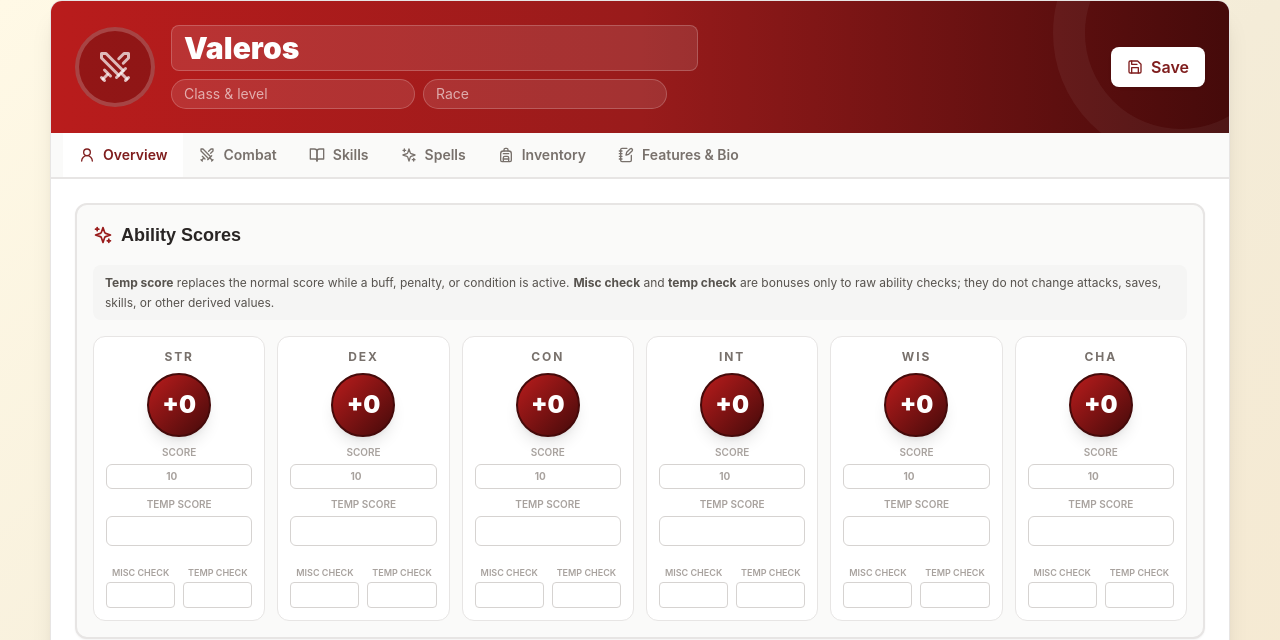
it: Pathfinder1eCharacterSheet › allows long feat content to be collapsed
Click the button "Features & Bio" at point(678, 156), box [602,133,755,179]
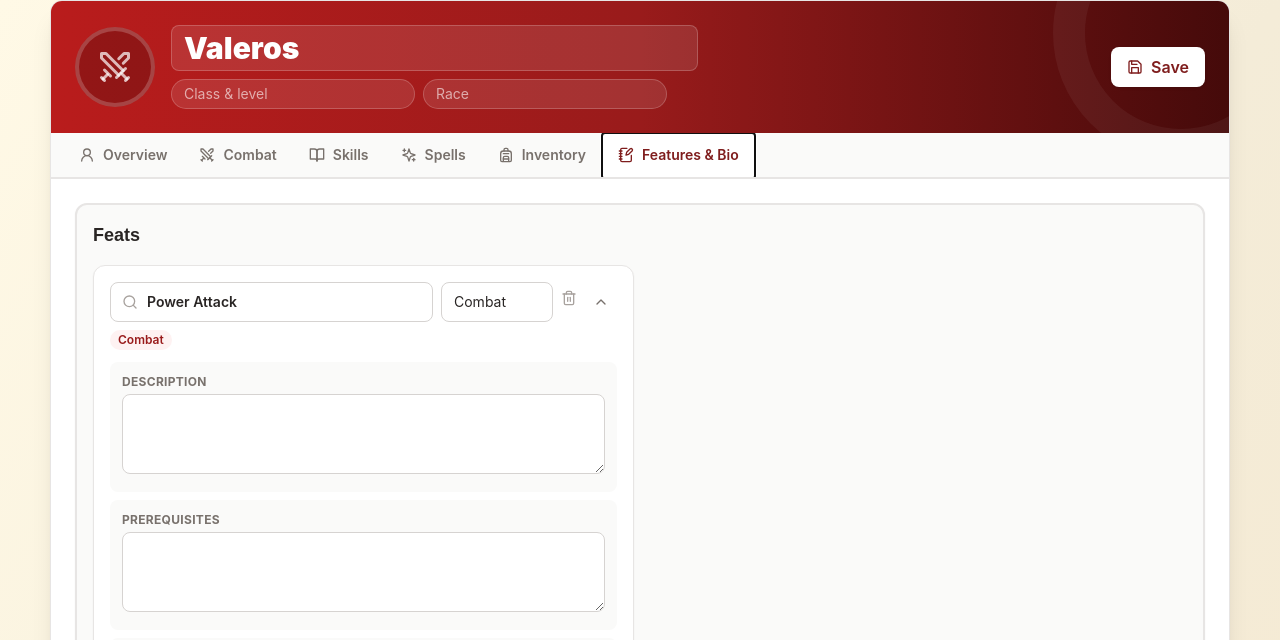
Expected: the text box named "Feat Description" is shown, [122,394,605,474]
Click the button named "Collapse Power Attack" at point(601, 302), box [585,286,617,318]
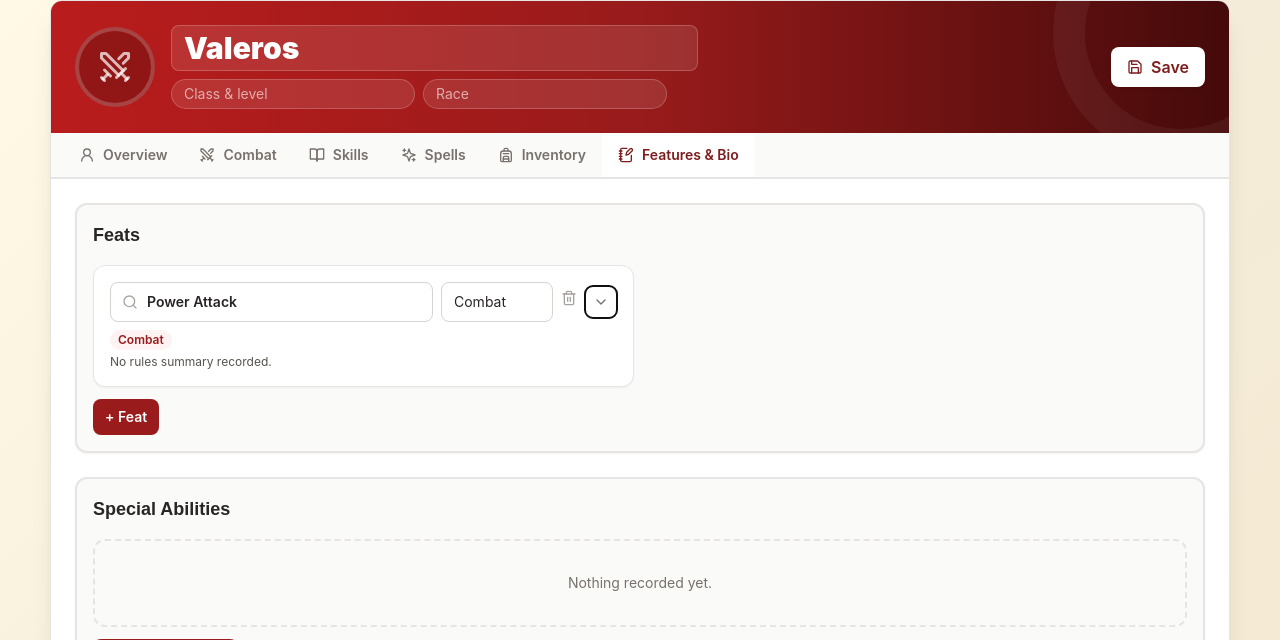
Expected: the button named "Expand Power Attack" is shown, [585,286,617,318]
